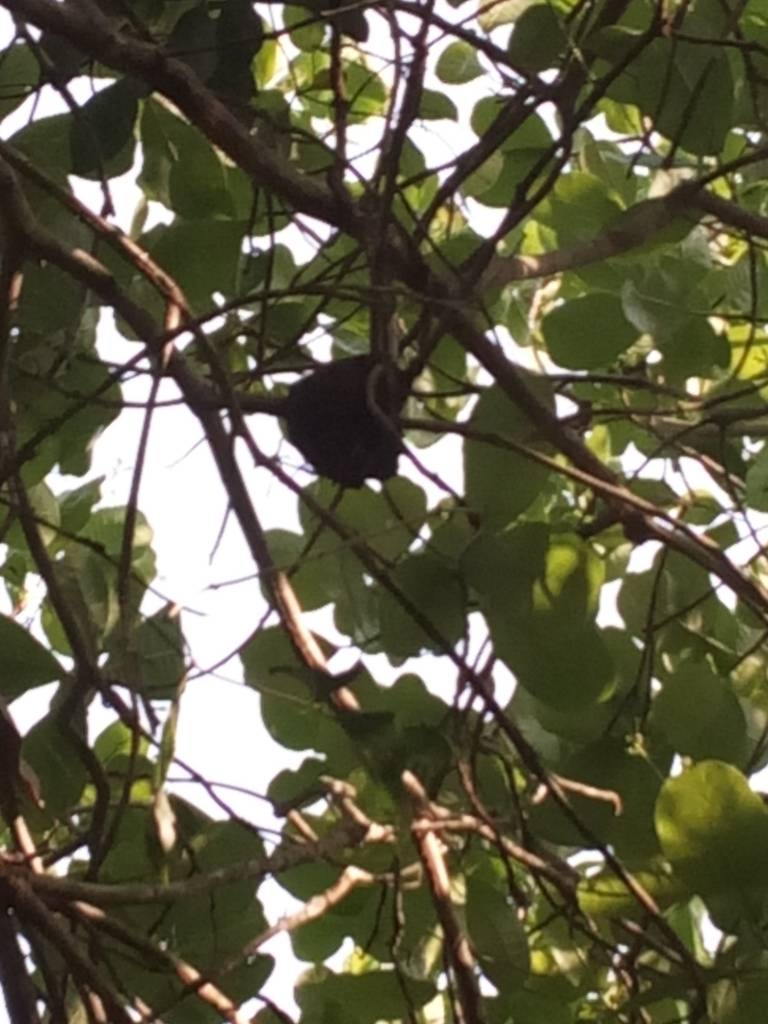Virose: (270, 321, 424, 514)
